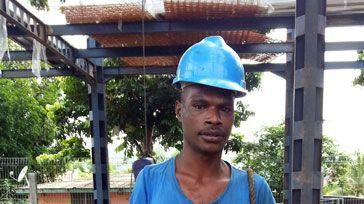helmet: (173, 41, 250, 95)
